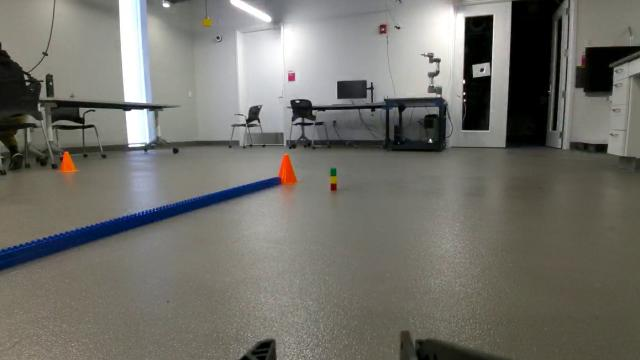lego: (324, 157, 345, 197)
